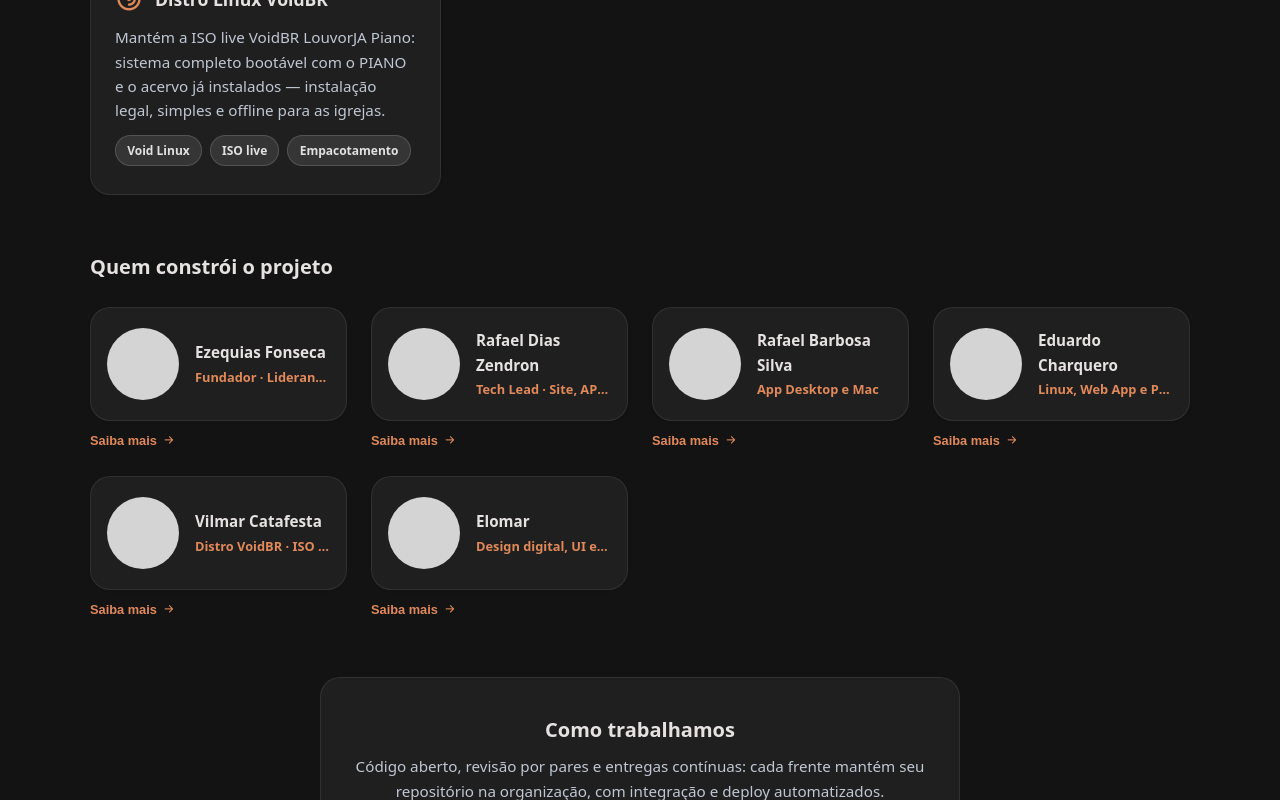
TeamSection › cada pessoa tem botao saiba mais que abre o modal
(page scrolled)
Click the button with class "team__person-more" below "Ezequias Fonseca".
click(133, 440)  # box [90,428,175,452]
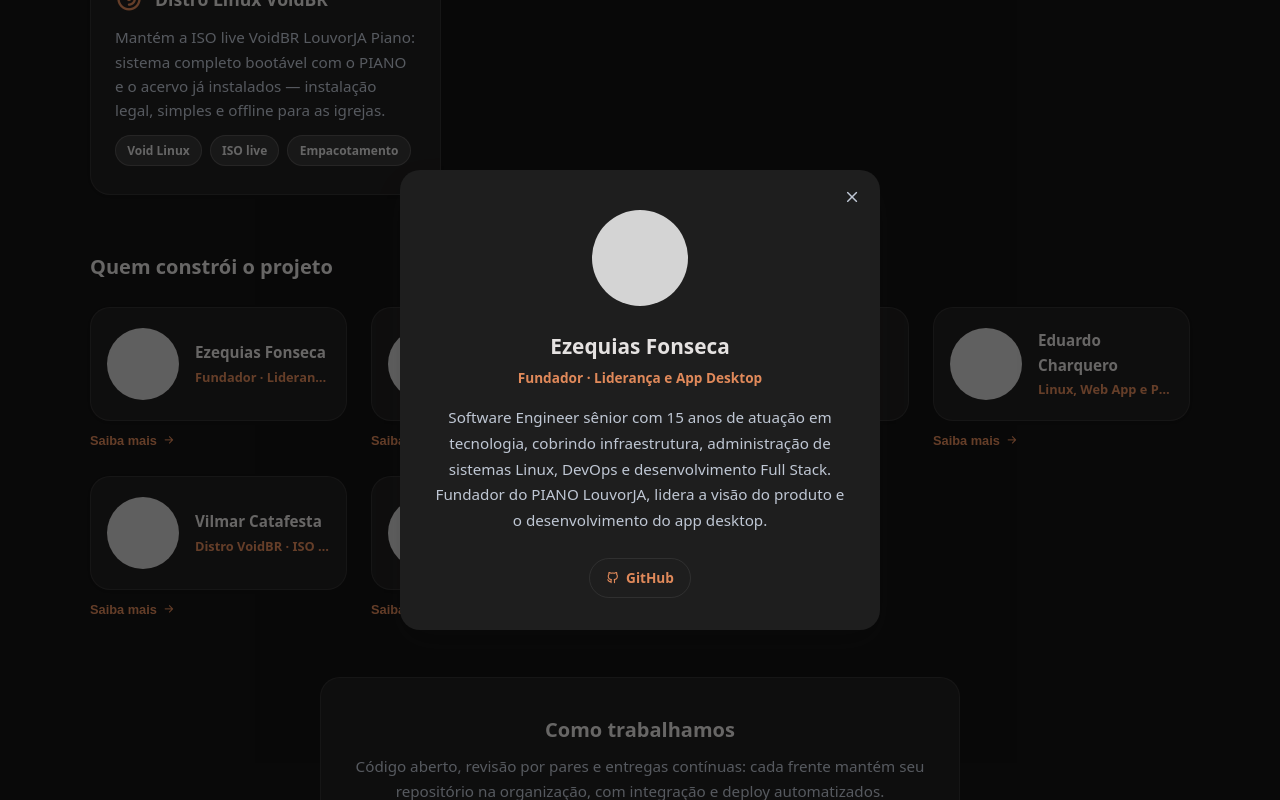
Now the dialog with class "team-modal" is shown
